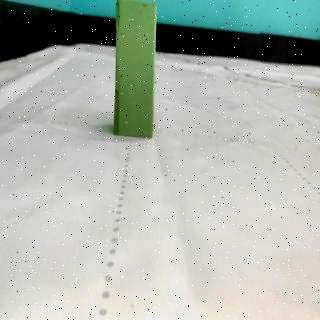greenbox: (114, 0, 158, 138)
